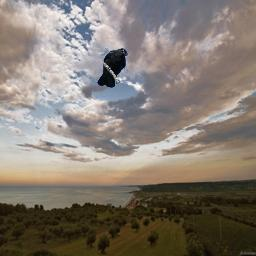Crow: (97, 48, 129, 88)
